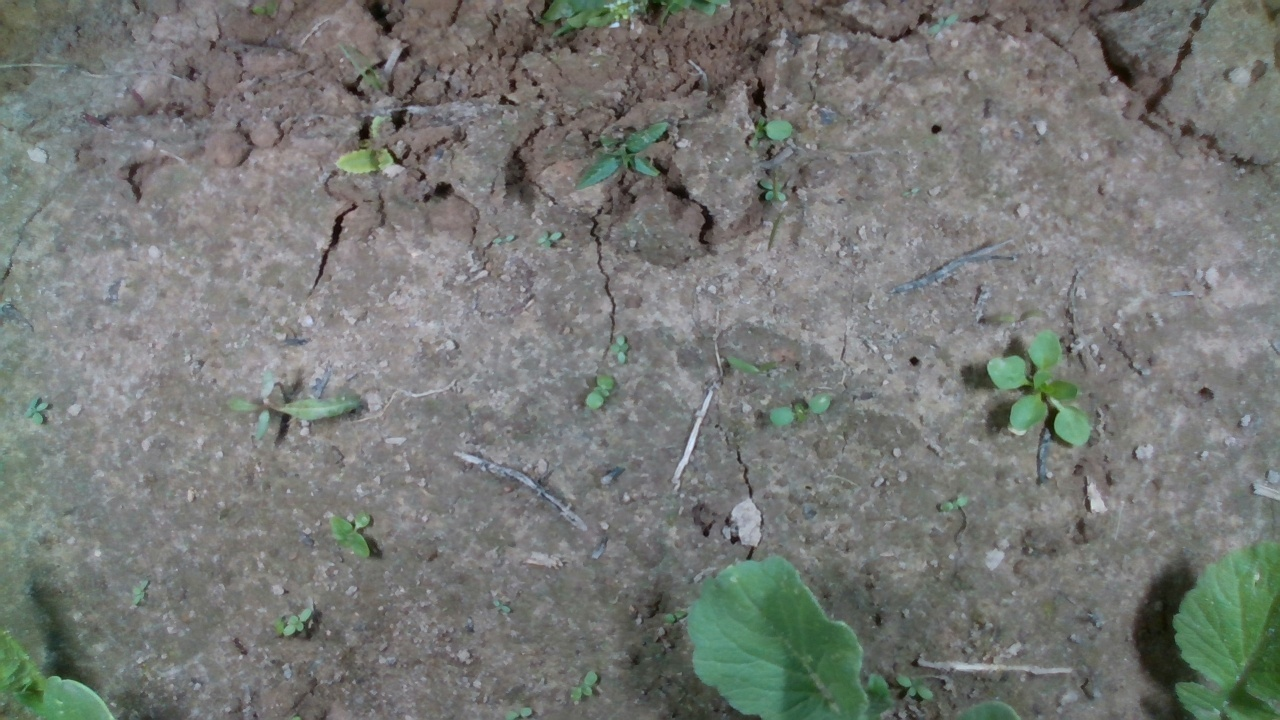weed: (572, 119, 669, 191), (327, 510, 373, 560), (767, 391, 831, 426), (333, 148, 396, 174), (584, 374, 614, 411), (895, 672, 934, 700), (567, 668, 599, 701), (753, 116, 793, 140), (22, 394, 50, 427), (282, 606, 312, 636), (758, 175, 787, 202), (608, 333, 631, 364), (130, 576, 150, 607), (535, 229, 564, 250), (492, 232, 516, 245)
